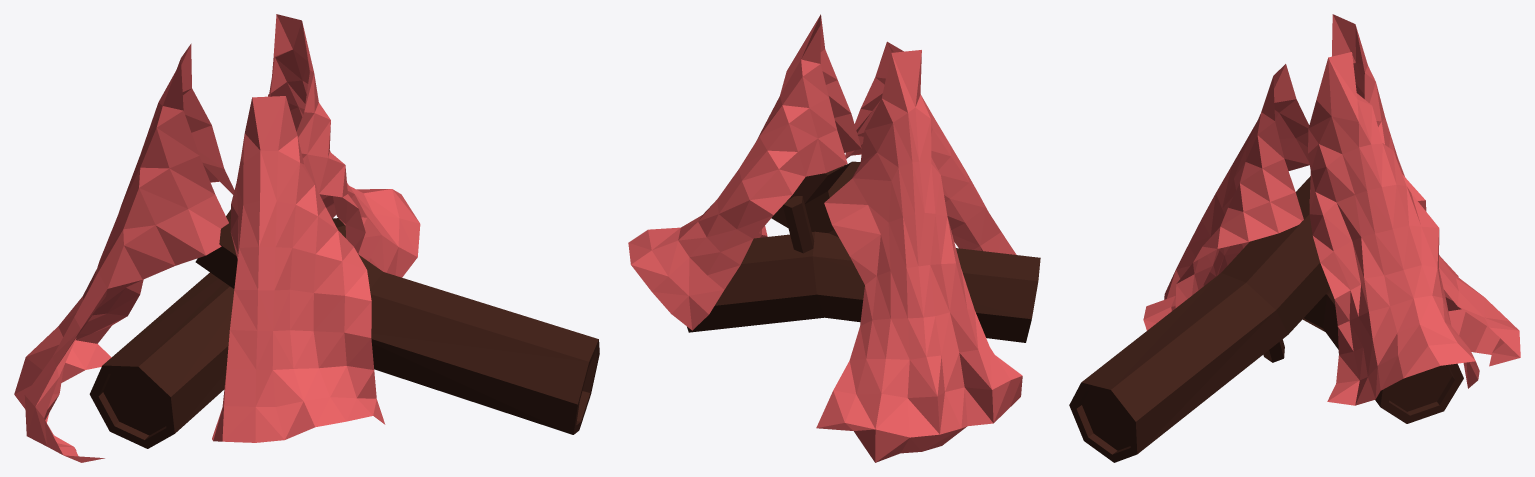
The model's file is flames.fbx.
3 renders of one model, left to right at view 1: azimuth 30°, elevation 25°; view 2: azimuth 150°, elevation 25°; view 3: azimuth 270°, elevation 25°, orthographic. The views are drawn at different scales.
Visible parts, largest first — view 1: Plane.007, Plane.009, Cylinder.001, Cylinder, Plane.008; view 2: Plane.009, Plane.008, Cylinder, Plane.007, Cylinder.001; view 3: Plane.008, Cylinder.001, Plane.007, Plane.009, Cylinder.
Part boxes in pixels (left/top/right/bottom): Plane.007: left=212, top=96, right=385, bottom=442; Plane.009: left=14, top=43, right=234, bottom=462; Cylinder.001: left=195, top=209, right=599, bottom=434; Cylinder: left=89, top=218, right=345, bottom=448; Plane.008: left=268, top=14, right=420, bottom=277; Plane.009: left=816, top=50, right=1022, bottom=462; Plane.008: left=628, top=14, right=861, bottom=330; Cylinder: left=687, top=196, right=1040, bottom=342; Plane.007: left=842, top=41, right=1016, bottom=254; Cylinder.001: left=771, top=161, right=860, bottom=237; Plane.008: left=1308, top=52, right=1479, bottom=405; Cylinder.001: left=1069, top=176, right=1330, bottom=462; Plane.007: left=1143, top=64, right=1309, bottom=330; Plane.009: left=1332, top=14, right=1520, bottom=366; Cylinder: left=1302, top=289, right=1463, bottom=423.
Size of the model in its own units: 2.48 by 2.23 by 2.42.
